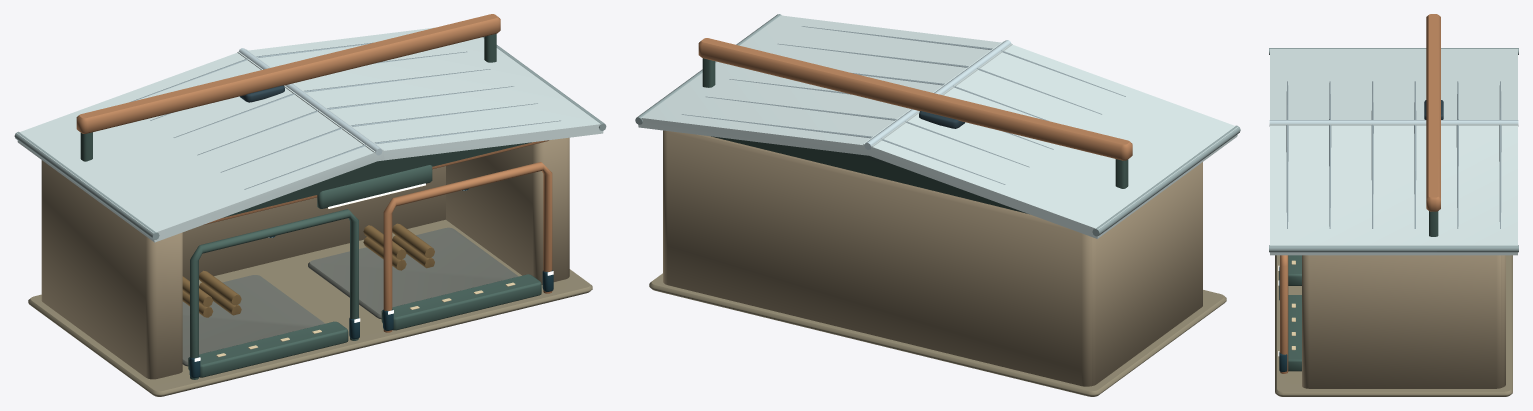
File: wilderness_logging.glb
3 views of the same model, side by side, from view 1: azimuth 30°, elevation 25°; view 2: azimuth 150°, elevation 25°; view 3: azimuth 270°, elevation 25° (orthographic). The views are drawn at different scales.
Visible parts, largest first — view 1: WildernessLogging; view 2: WildernessLogging; view 3: WildernessLogging.
Part boxes in pixels (x1=…): WildernessLogging: x1=14, y1=14, x2=606, y2=396; WildernessLogging: x1=635, y1=14, x2=1240, y2=396; WildernessLogging: x1=1269, y1=14, x2=1518, y2=396.
Size of the model in its own units: 13.39 by 6.07 by 7.05.
